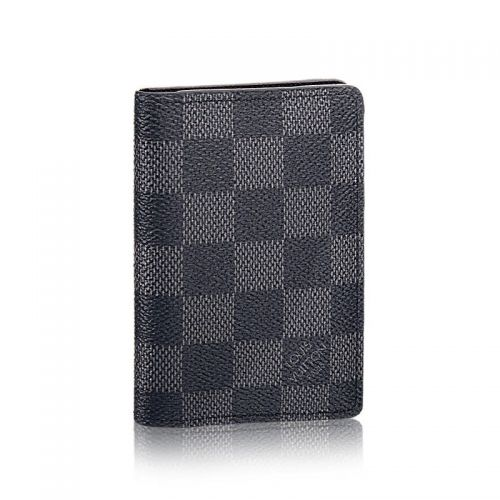monedero: (131, 76, 366, 430)
